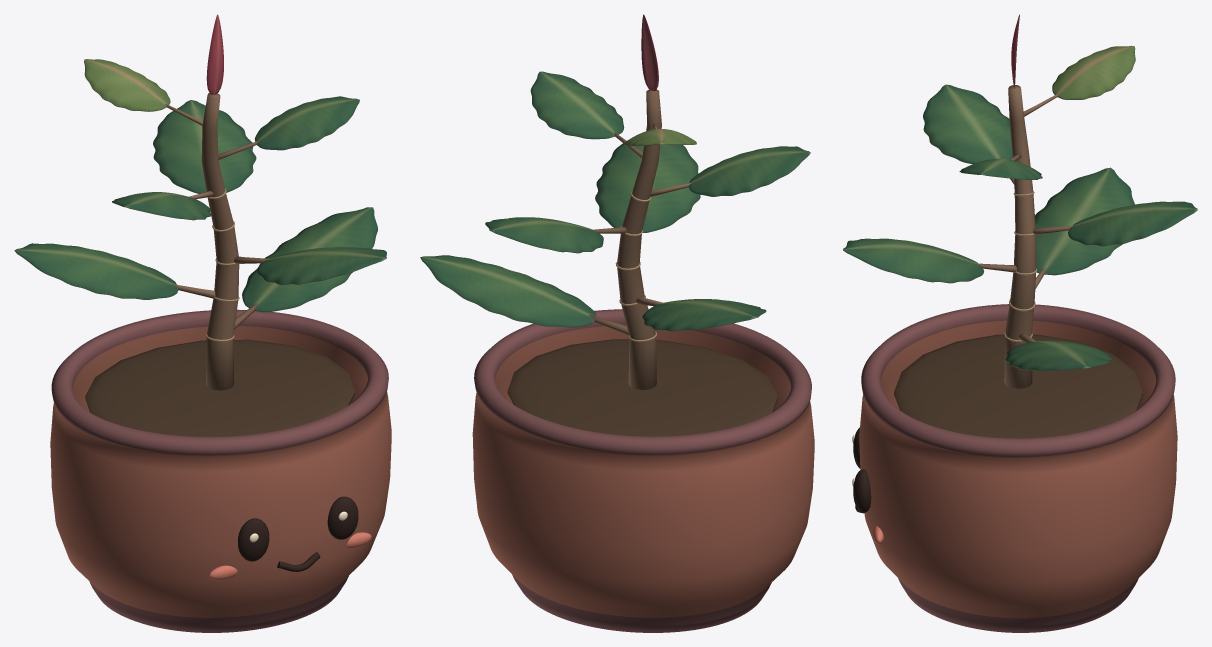
Rendered from rubber-plant-v1.glb.
3 views of the same model, side by side, from view 1: azimuth 30°, elevation 25°; view 2: azimuth 150°, elevation 25°; view 3: azimuth 270°, elevation 25° (orthographic).
Parts seen in each view (by area): view 1: Wheel-thrown ceramic, Foliage draw mesh, Soil, Eye, Eye.001; view 2: Wheel-thrown ceramic, Foliage draw mesh, Soil; view 3: Wheel-thrown ceramic, Foliage draw mesh, Soil, Eye.001.
Part boxes in pixels (x1=…): Wheel-thrown ceramic: x1=50, y1=309, x2=391, y2=632; Foliage draw mesh: x1=14, y1=14, x2=386, y2=390; Soil: x1=85, y1=339, x2=354, y2=436; Eye: x1=238, y1=518, x2=269, y2=561; Eye.001: x1=327, y1=496, x2=358, y2=539; Wheel-thrown ceramic: x1=472, y1=309, x2=814, y2=632; Foliage draw mesh: x1=420, y1=14, x2=810, y2=389; Soil: x1=507, y1=339, x2=777, y2=436; Wheel-thrown ceramic: x1=859, y1=304, x2=1177, y2=632; Foliage draw mesh: x1=843, y1=14, x2=1197, y2=388; Soil: x1=894, y1=334, x2=1142, y2=438; Eye.001: x1=853, y1=469, x2=871, y2=513.
Size of the model in its own units: 1.87 by 2.94 by 1.67.
